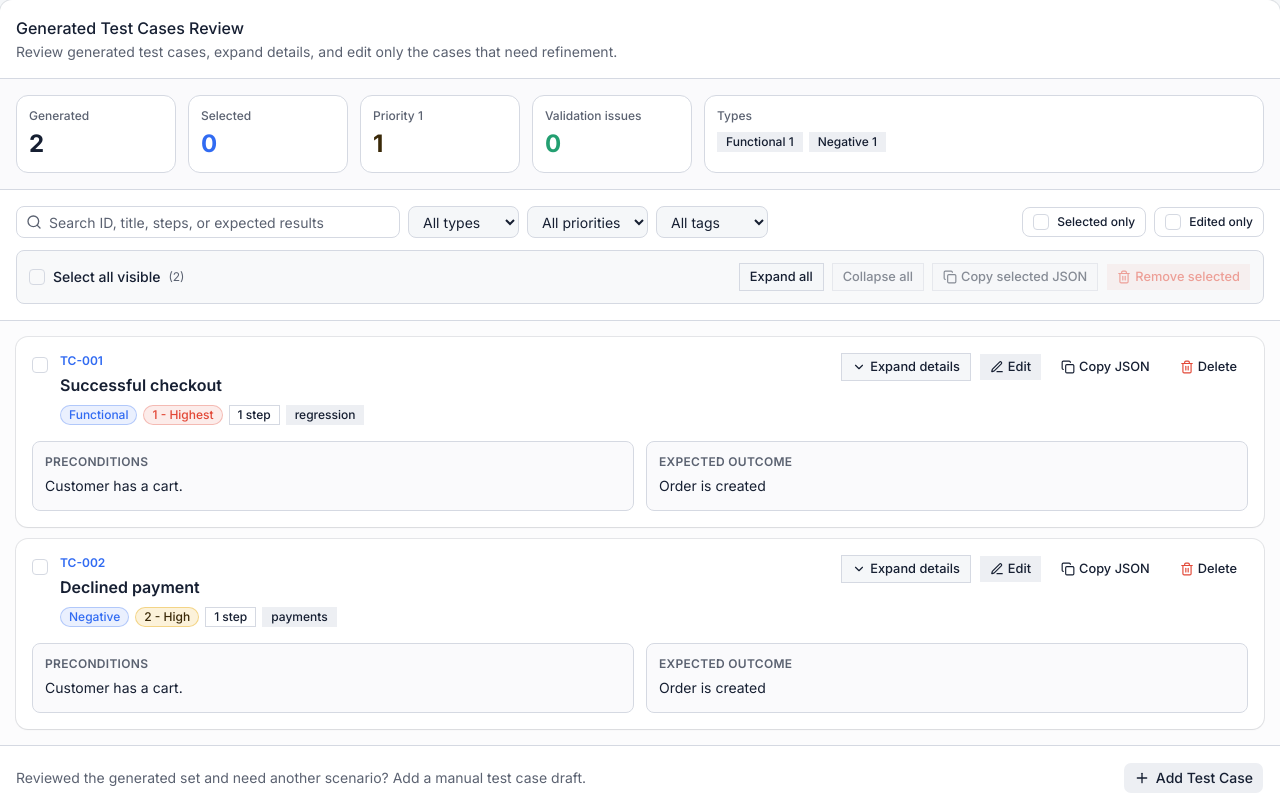
Test case: GeneratedTestCasesReview › filters cases by observable search, type, priority, and tag controls
This screenshot has width=1280, height=800.
Type "declined" into the field named "Search generated test cases" at (208, 222), box [16,206,400,238]
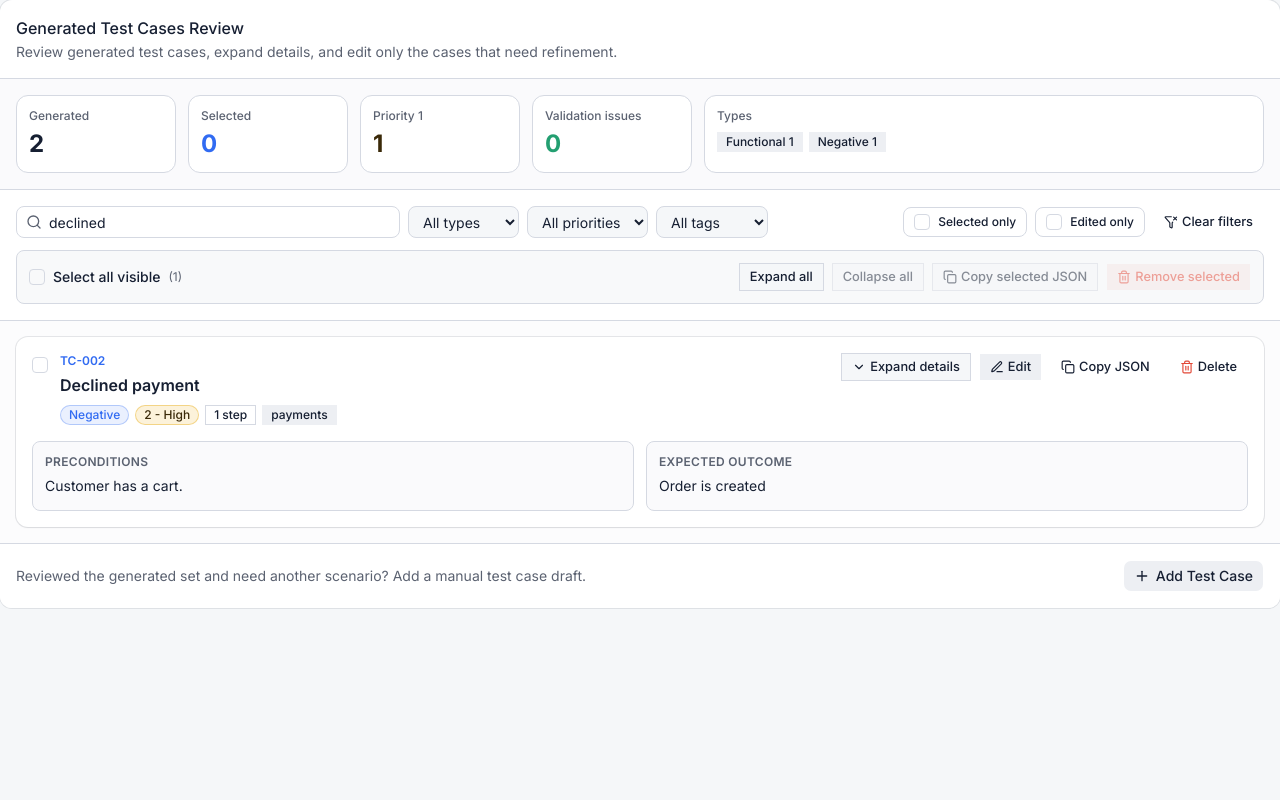
Expected: the heading "Declined payment" is shown, [60,375,200,395]
Now the heading "Successful checkout" is gone
Clear the field named "Search generated test cases" at (208, 222), box [16,206,400,238]
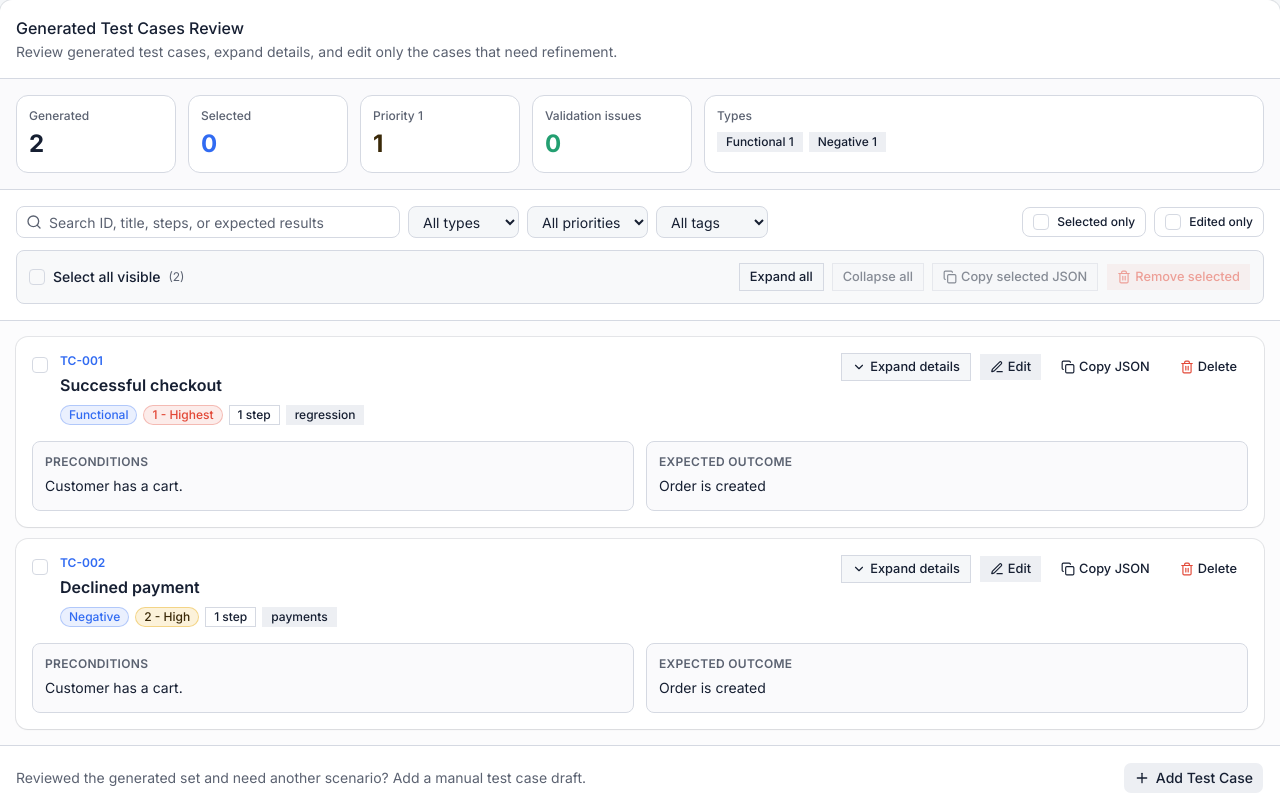
Select "Priority 1" in the dropdown named "Filter by priority" at (588, 222), box [527,206,648,238]
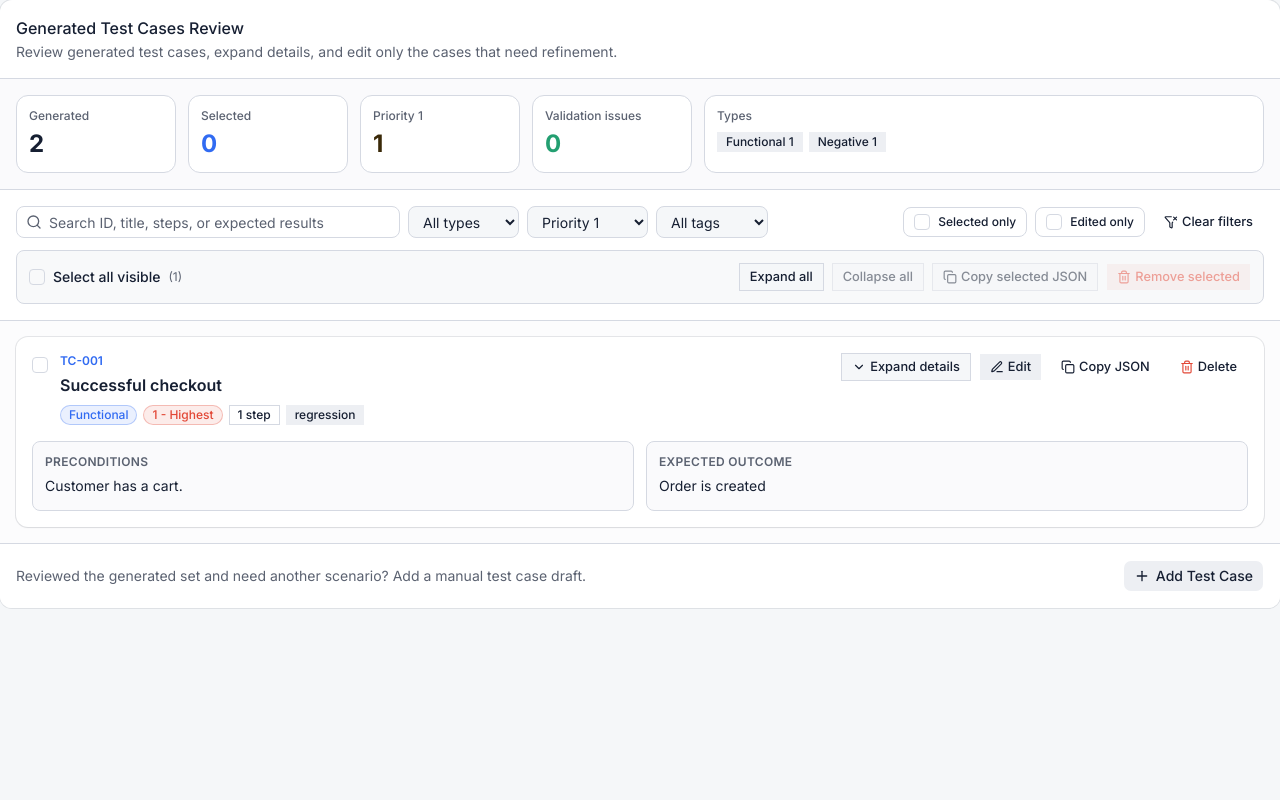
Now the heading "Successful checkout" is shown, box [60,375,222,395]
Now the heading "Declined payment" is gone
